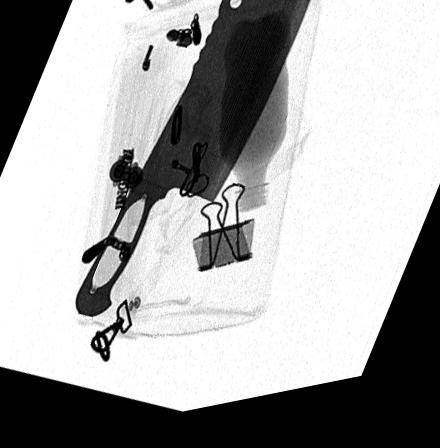Knife: (76, 0, 312, 321)
